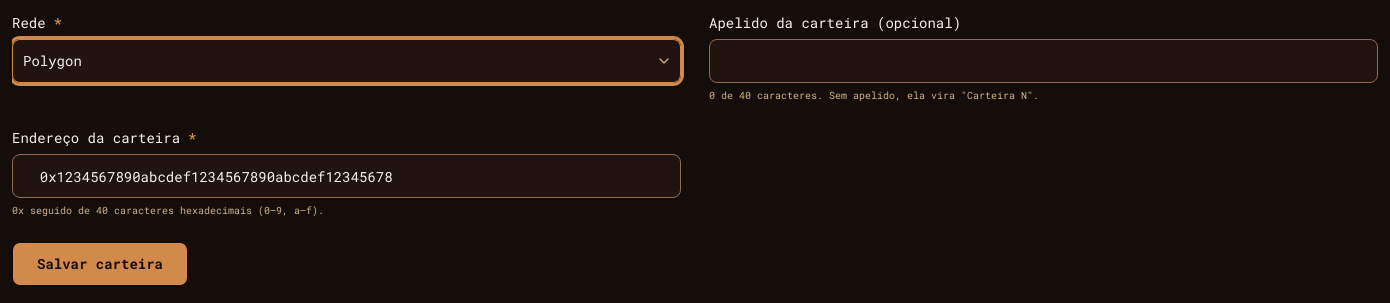
Test case: WalletForm › sucesso: escolhe a rede, envia sem apelido vazio, limpa, invalida lista e perfil e avisa
Earlier steps of the test are not shown.
Expected: the dropdown reads "Polygon", top-left (12, 39), bottom-right (681, 83)
Click the button "Salvar carteira": (100, 264) top-left (12, 242), bottom-right (188, 286)
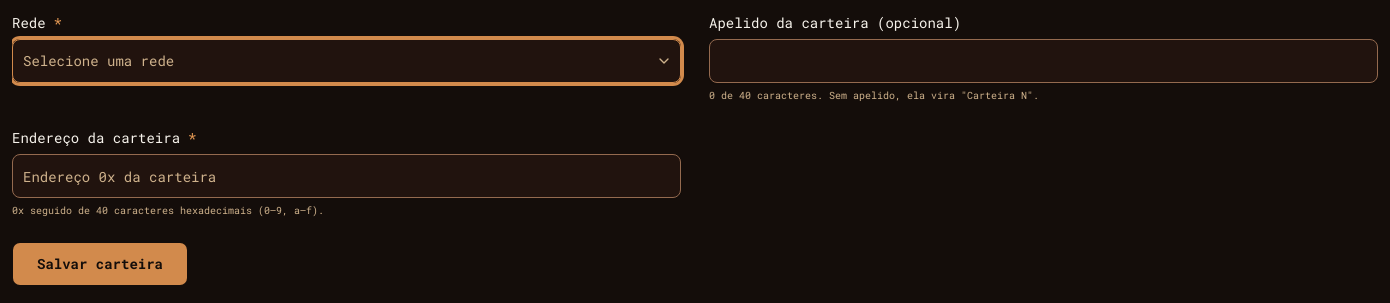
Result: the dropdown reads "Selecione uma rede" at top-left (12, 39), bottom-right (681, 83)
